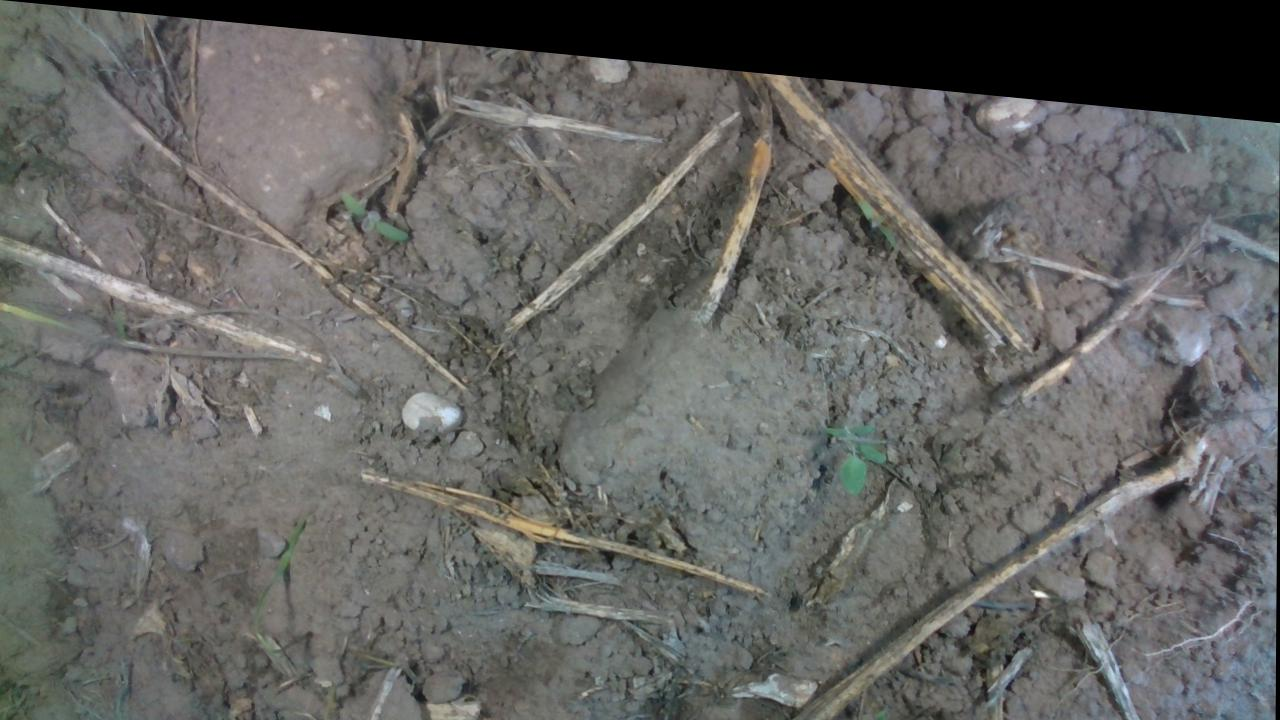weed: (338, 180, 410, 232)
